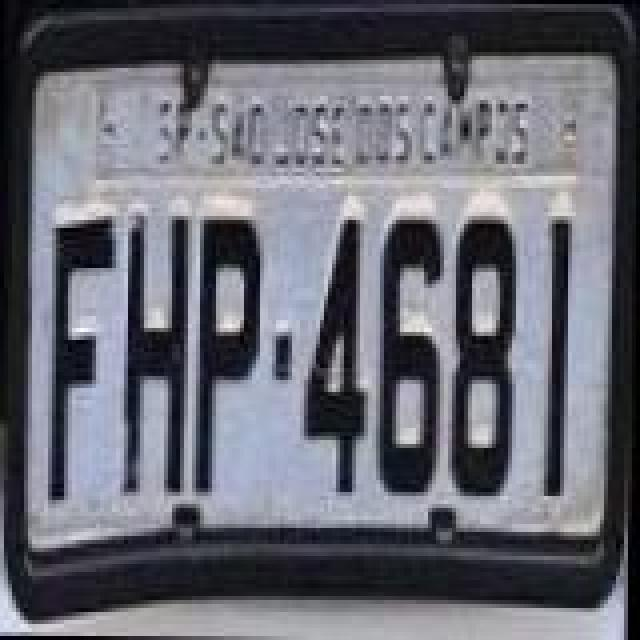1: (544, 210, 576, 502)
4: (304, 214, 376, 498)
6: (376, 216, 448, 500)
8: (446, 208, 522, 500)
F: (46, 212, 122, 508)
H: (118, 212, 194, 504)
P: (192, 212, 264, 504)
